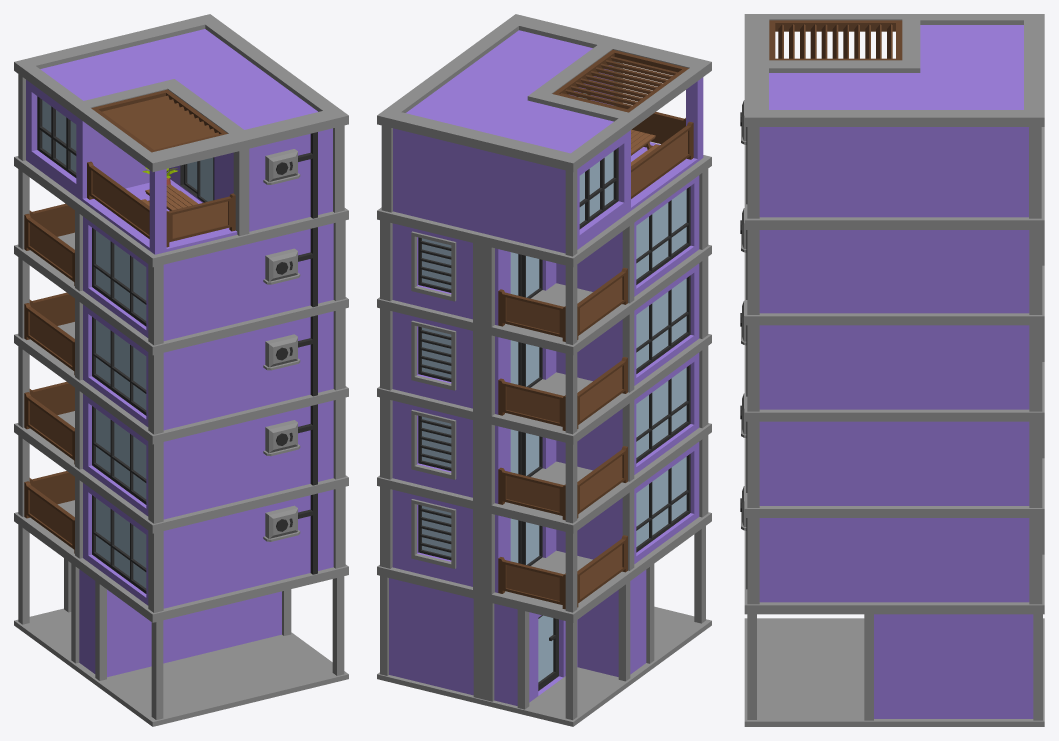
3 views of the same model, side by side, from view 1: azimuth 30°, elevation 25°; view 2: azimuth 150°, elevation 25°; view 3: azimuth 270°, elevation 25° (orthographic). The views are drawn at different scales.
Visible parts, largest first — view 1: Purple apartment; view 2: Purple apartment; view 3: Purple apartment.
Part boxes in pixels (left/top/right/bottom): Purple apartment: left=14, top=14, right=348, bottom=726; Purple apartment: left=377, top=14, right=711, bottom=726; Purple apartment: left=740, top=14, right=1044, bottom=726.
Bounding box in the file's own units: 3.13 × 8.59 × 3.89.
